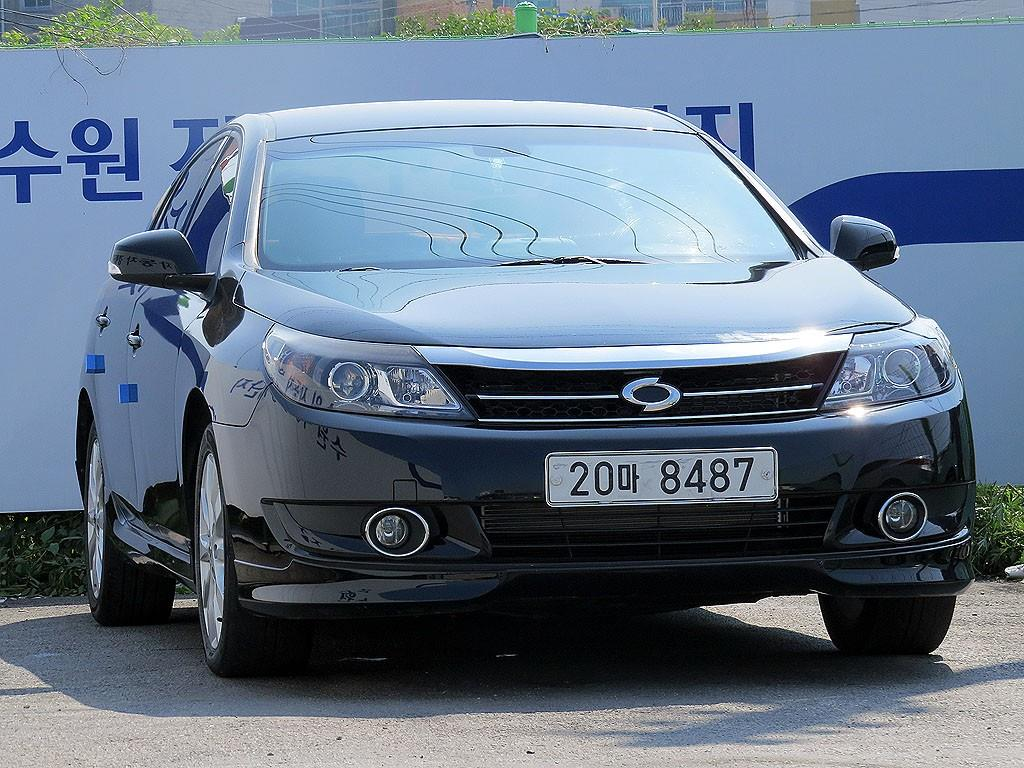plate: (549, 452, 775, 503)
